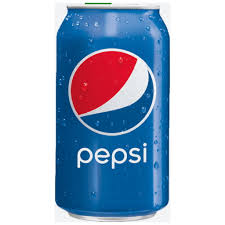can: (56, 4, 170, 220)
